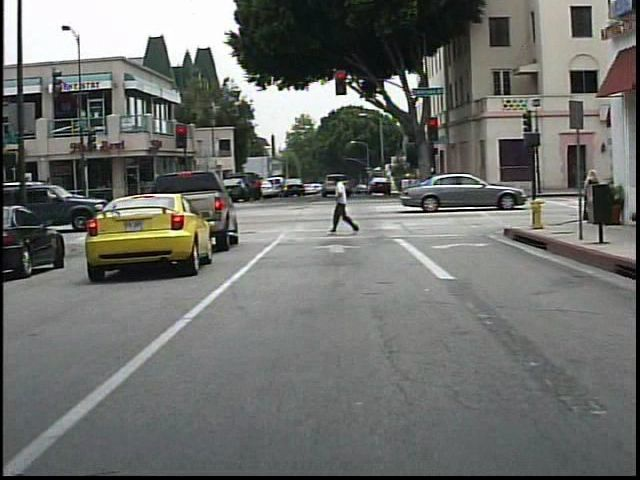person: (327, 172, 359, 237), (577, 167, 605, 222), (247, 169, 272, 210)
